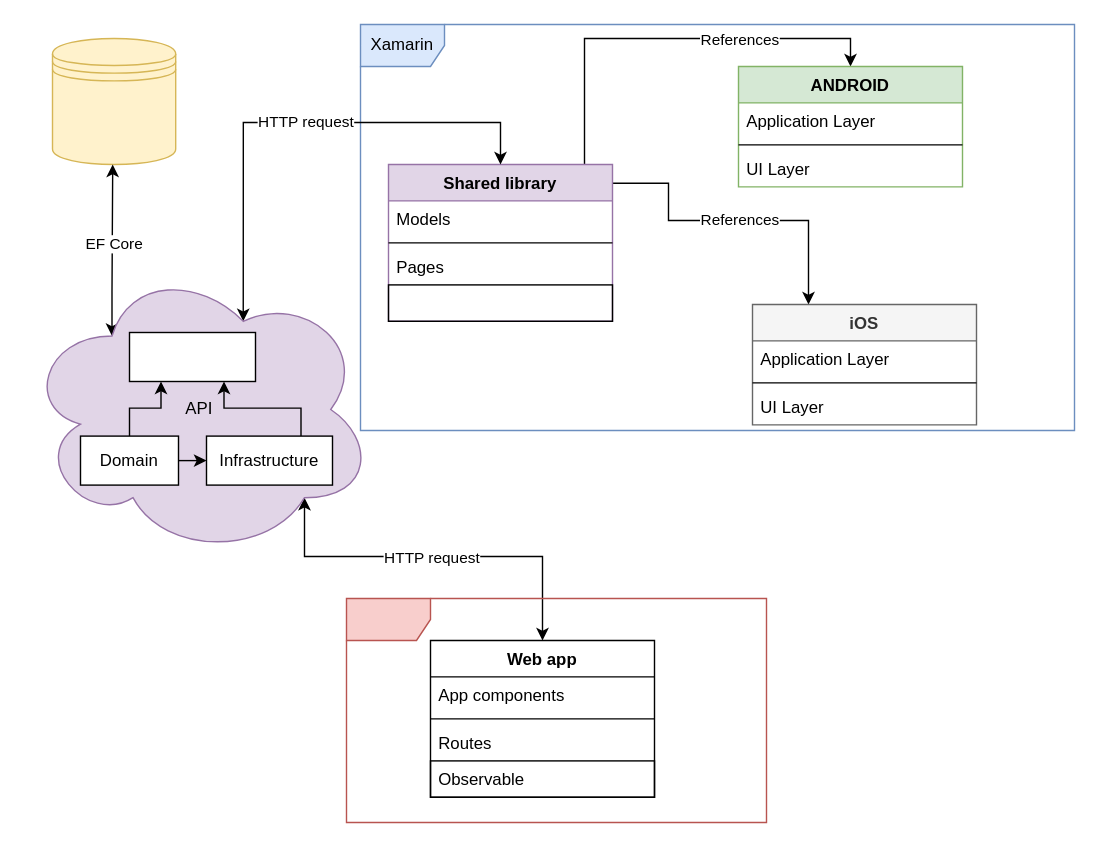
This 1099x847 diagram has some shape labels left out. The centre of each missing label's shape, as x and y in pixels:
Angular: pixel 555 709
Application: pixel 191 356
Database: pixel 113 100
Services: pixel 499 302
